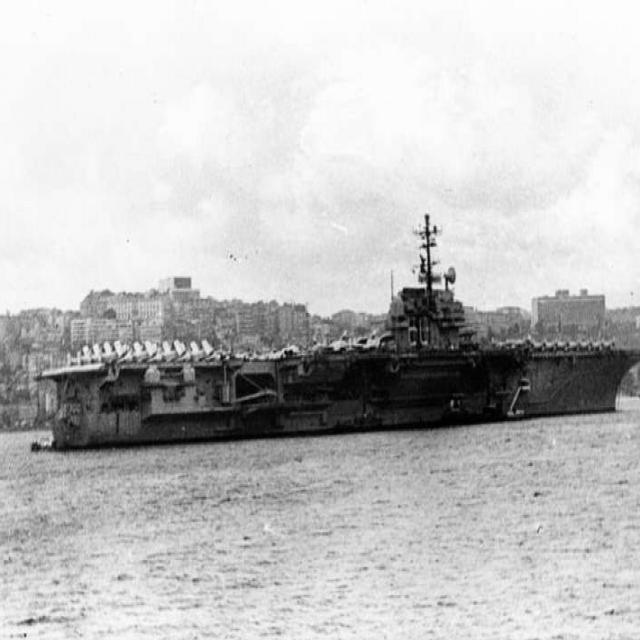Portanaves: (31, 198, 640, 461)
